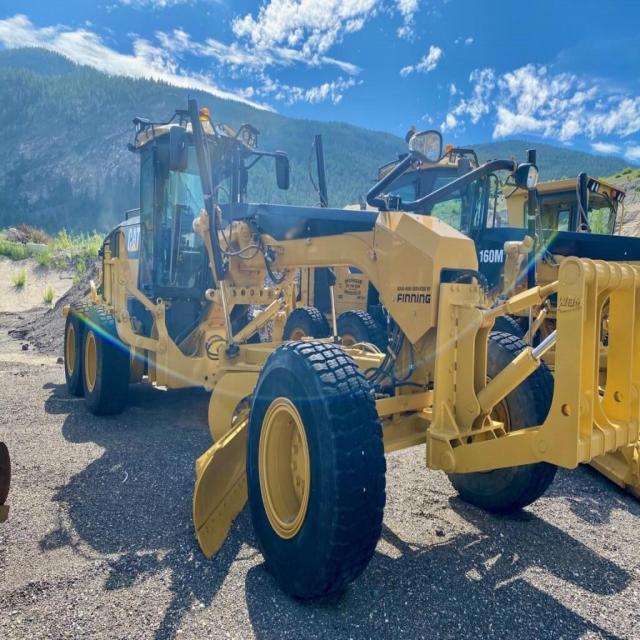Grader: (44, 92, 639, 602)
